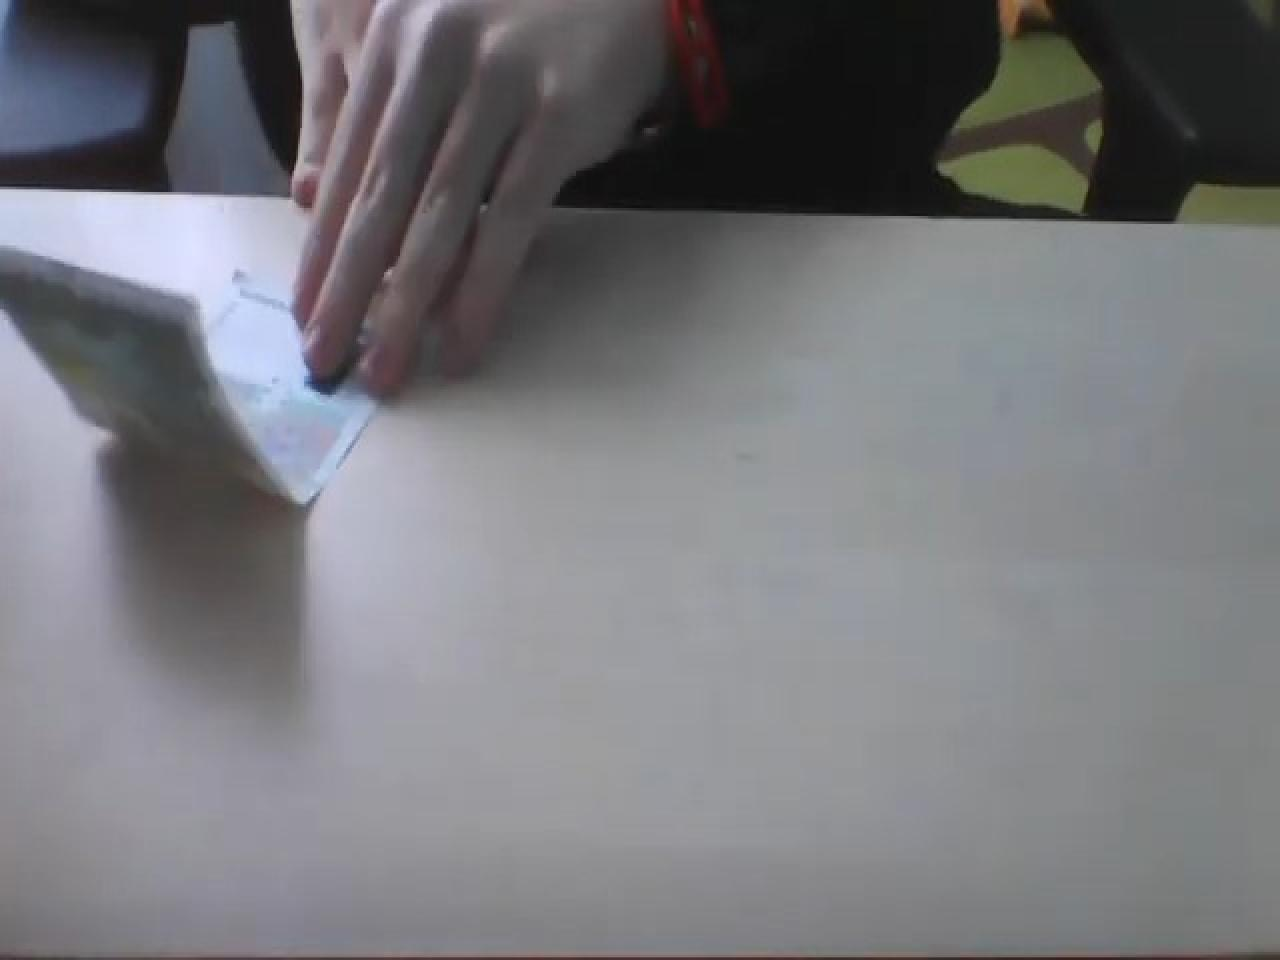100leva: (0, 238, 380, 509)
